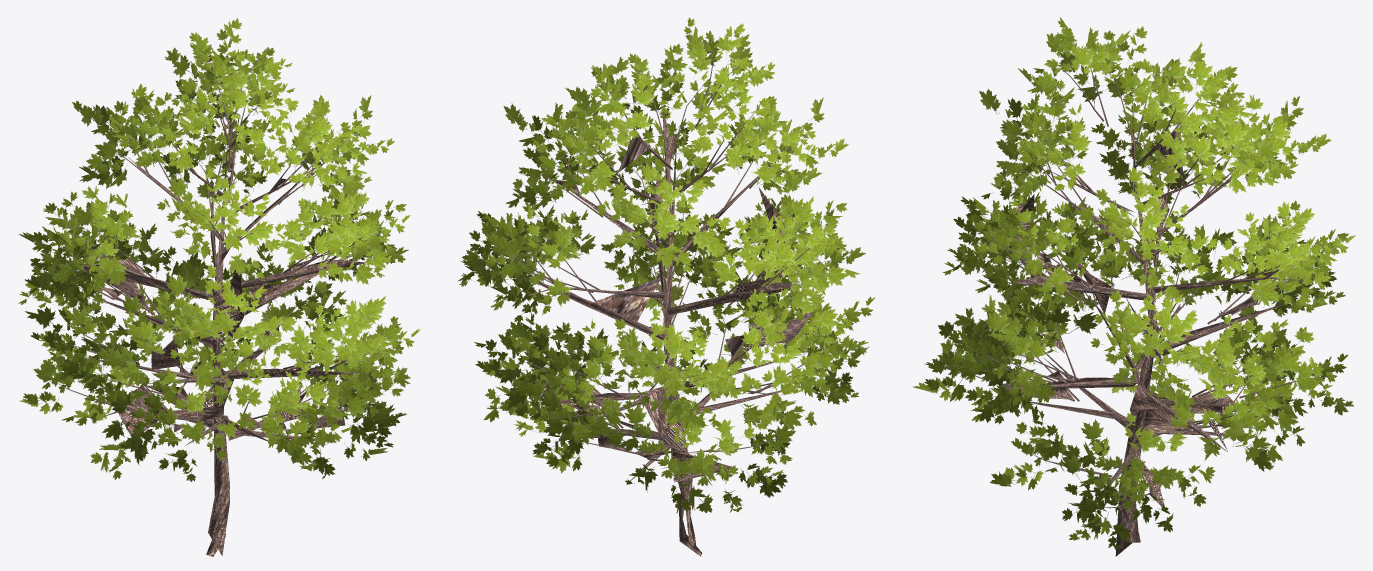
Rendered from arbol_aguacate.glb.
3 views of the same model, side by side, from view 1: azimuth 30°, elevation 25°; view 2: azimuth 150°, elevation 25°; view 3: azimuth 270°, elevation 25° (orthographic). The views are drawn at different scales.
Parts seen in each view (by area): view 1: cerca, lejos; view 2: cerca, lejos; view 3: cerca, lejos.
Boxes of the visible parts, box(x1,y1,x2,y2) form: cerca: box(18, 18, 420, 555); lejos: box(19, 21, 410, 556); cerca: box(459, 17, 875, 546); lejos: box(457, 30, 869, 556); cerca: box(917, 17, 1355, 556); lejos: box(912, 27, 1348, 543).
Size of the model in its own units: 7.75 by 10.05 by 7.73.
2 materials, 2 textured.
